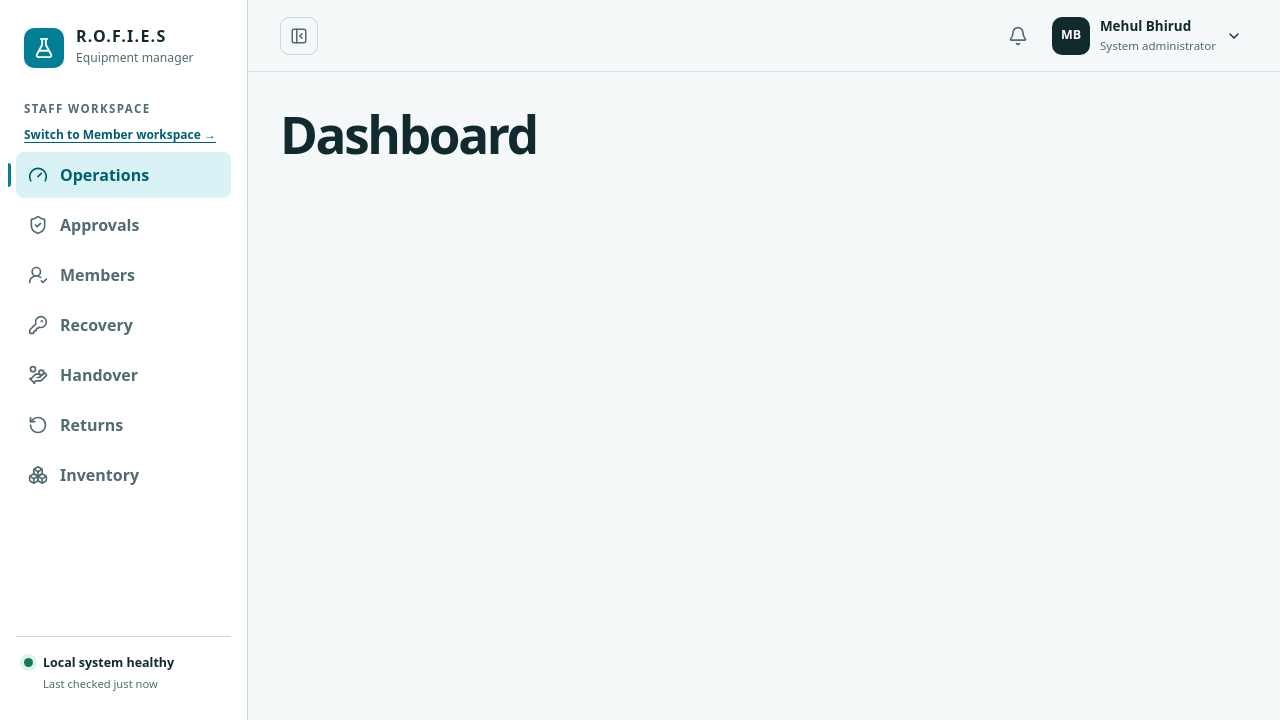
AppShell account menu › opens profile navigation separately from the sign-out action
The image size is (1280, 720).
Click the button with aria-label "account menu for mehul bhirud" at (1148, 36), box [1048, 12, 1248, 60]
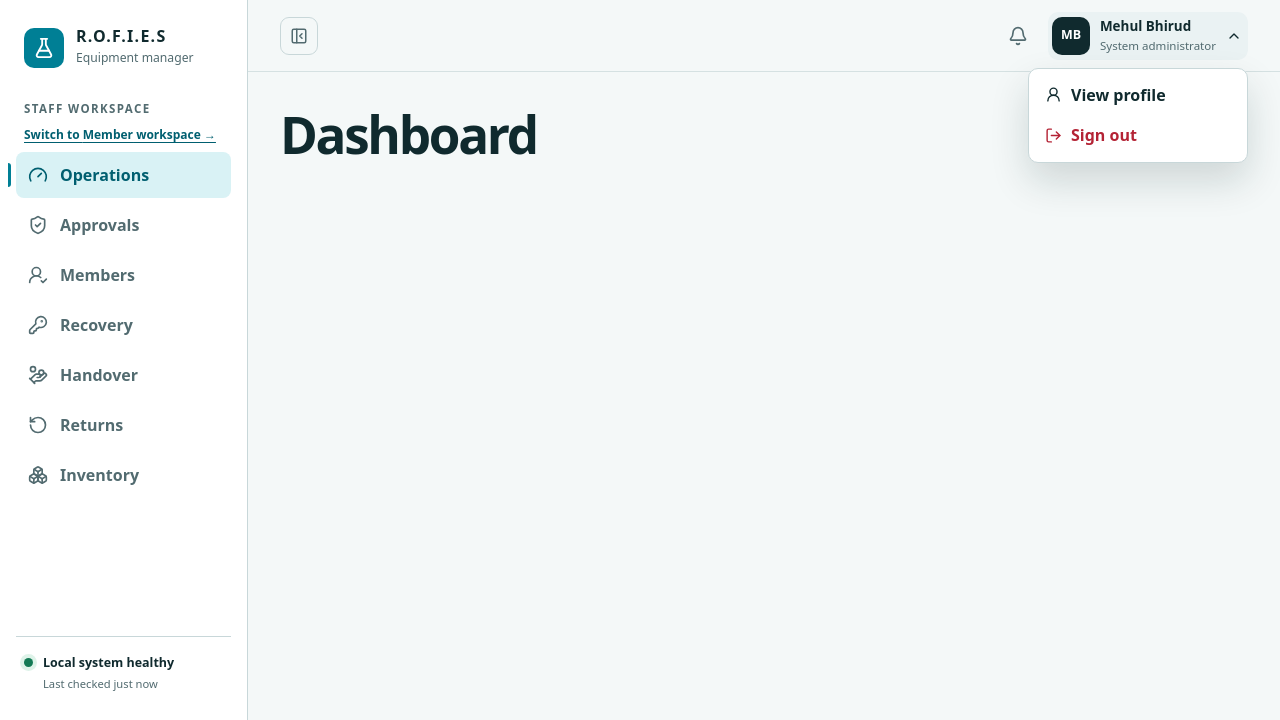
Check: the button "Sign out" is shown, box [1035, 115, 1241, 156]
